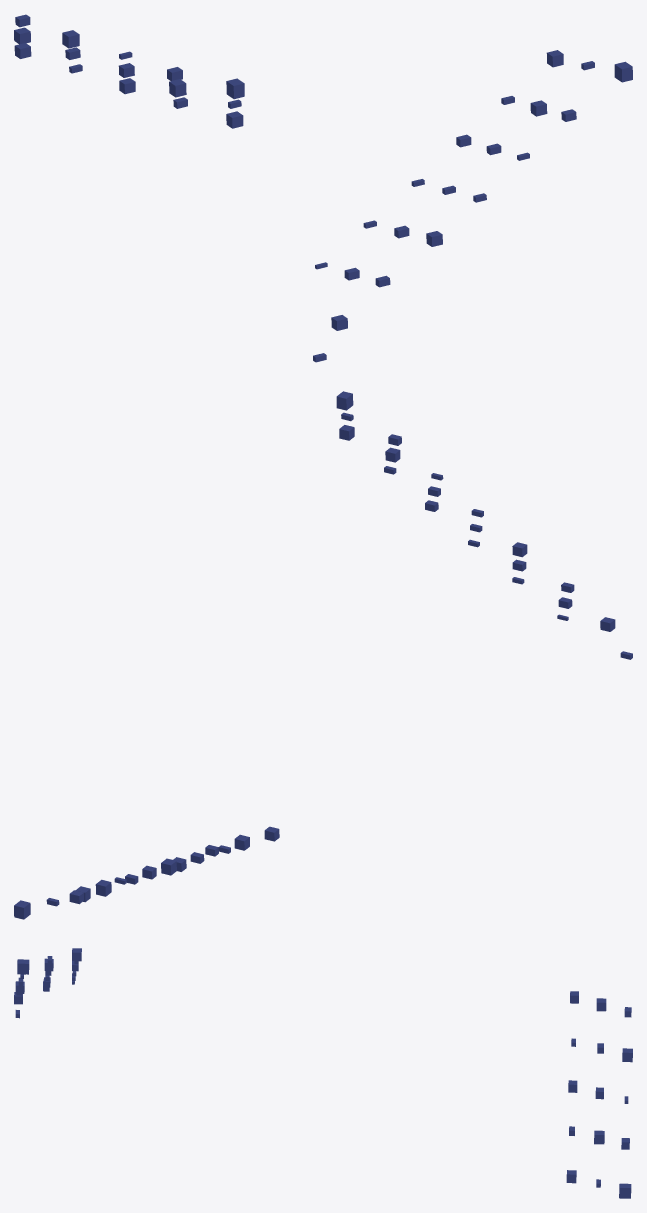
Rendered from bg-boxes-10.glb.
3 views of the same model, one above another, from view 1: azimuth 30°, elevation 25°; view 2: azimuth 150°, elevation 25°; view 3: azimuth 270°, elevation 25° (orthographic). The views are drawn at different scales.
Bounding box in the file's own units: 0.1069 × 0.0958 × 0.2224.
